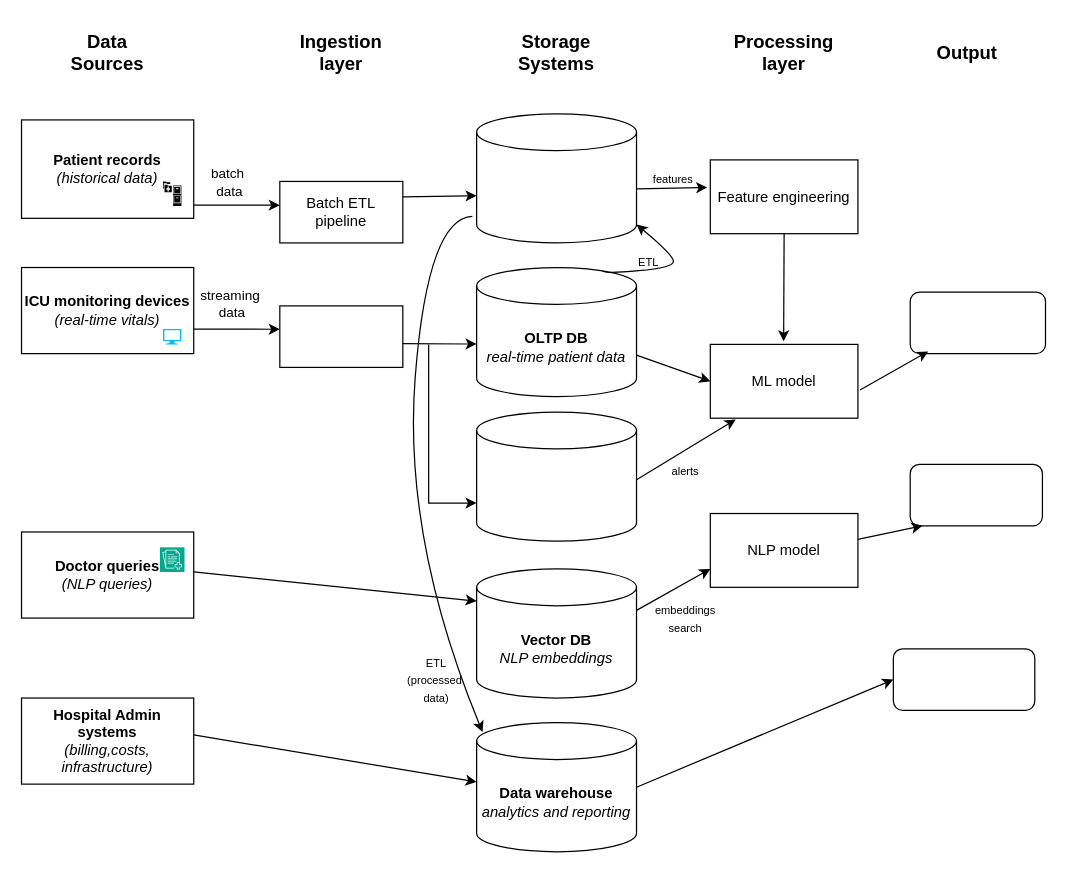
Some shapes in this 1068 by 873 pixel diagram are drawn without their labels. The centre of each missing label's shape, as x and y in pixels:
"Data lakehouse raw data (logs,vitals,images)" goes at (x=556, y=178).
"NLP search" goes at (x=975, y=494).
"Real-time alerts" goes at (x=977, y=322).
"Reports and analytics" goes at (x=963, y=679).
"Streaming pipeline" goes at (x=341, y=336).
"Time-series DB ICU vitals" goes at (x=556, y=476).
